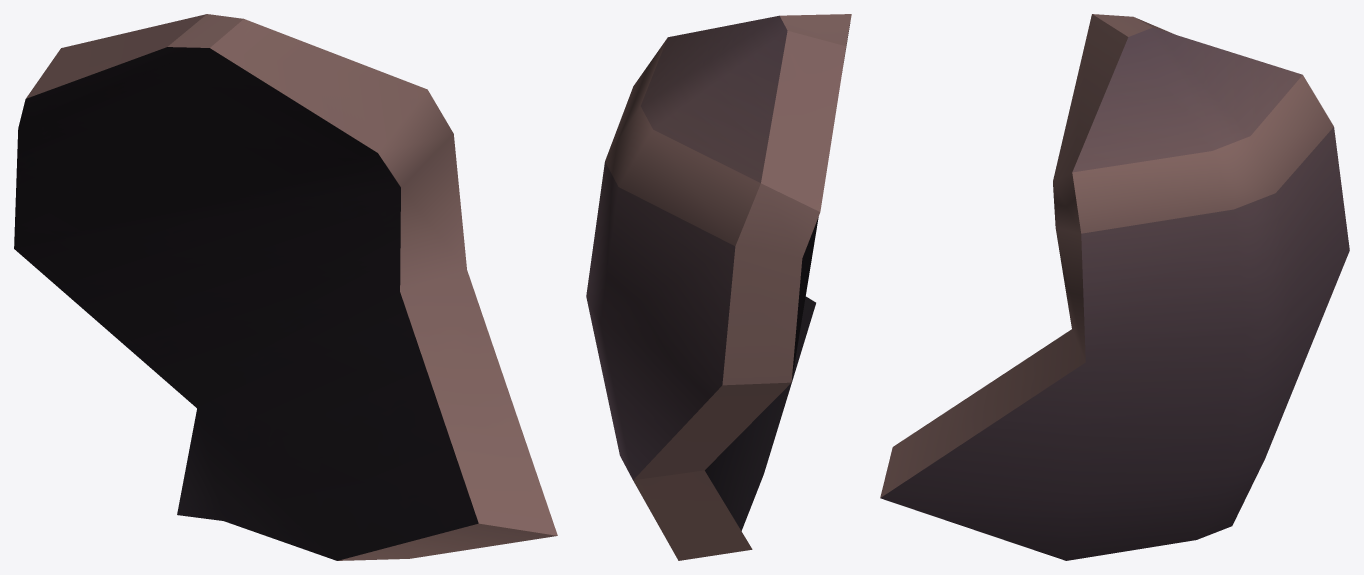
File: pot_4_shard_2.fbx
3 renders of one model, left to right at view 1: azimuth 30°, elevation 25°; view 2: azimuth 150°, elevation 25°; view 3: azimuth 270°, elevation 25°, orthographic. The views are drawn at different scales.
Parts seen in each view (by area): view 1: pot_4_shard_2; view 2: pot_4_shard_2; view 3: pot_4_shard_2.
Boxes of the visible parts, x1,y1,x2,y2 form: pot_4_shard_2: (14,14,557,560); pot_4_shard_2: (586,14,851,560); pot_4_shard_2: (880,14,1349,560).
Size of the model in its own units: 34.82 by 55.12 by 49.99.
